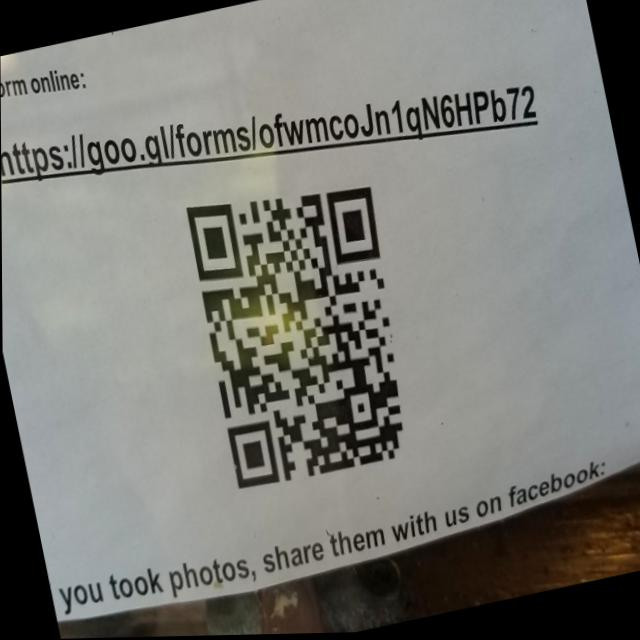QR_CODE: (163, 144, 438, 525)
